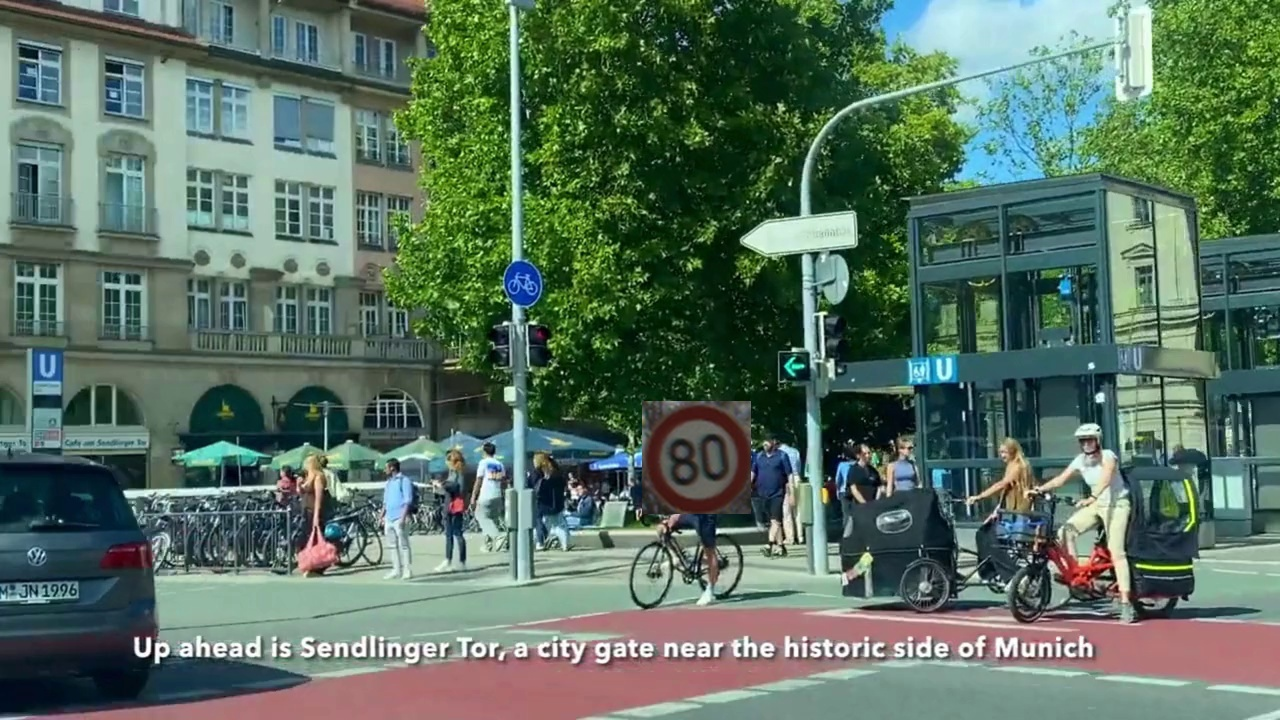Speed 80: (642, 401, 751, 514)
